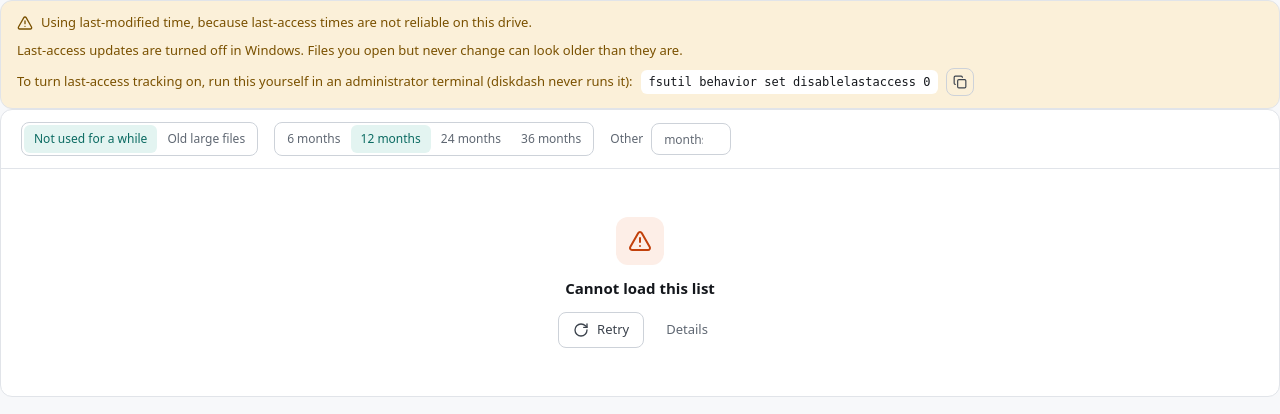
Test case: StaleTab › shows an error with retry
Expected: the heading "Cannot load this list" is shown, [565,277,715,300]
What coordinates should you click on to do the following:
click the button "Retry"
I would click on:
 (601, 330)
Its box is [558,312,644,348].
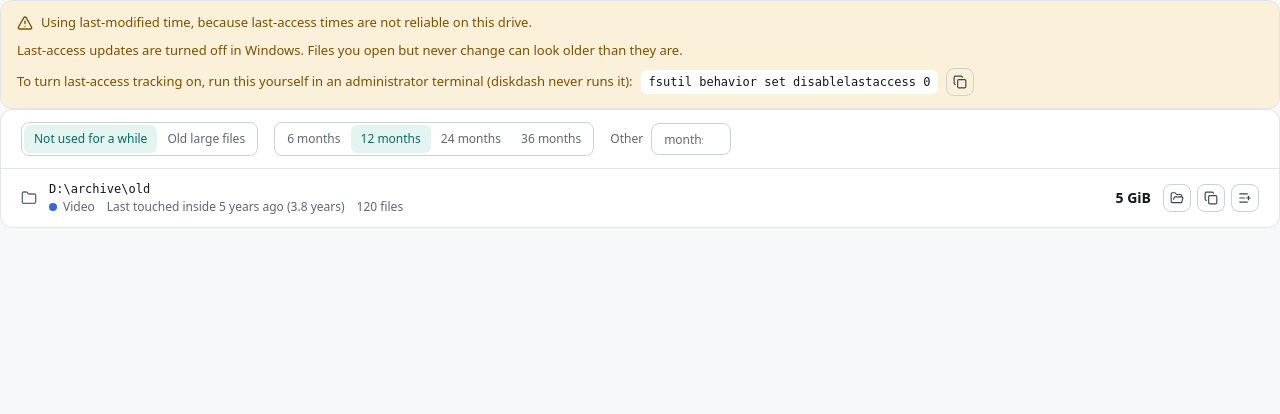
Expected: the text "D:\\archive\\old" is shown, [49,182,150,196]
